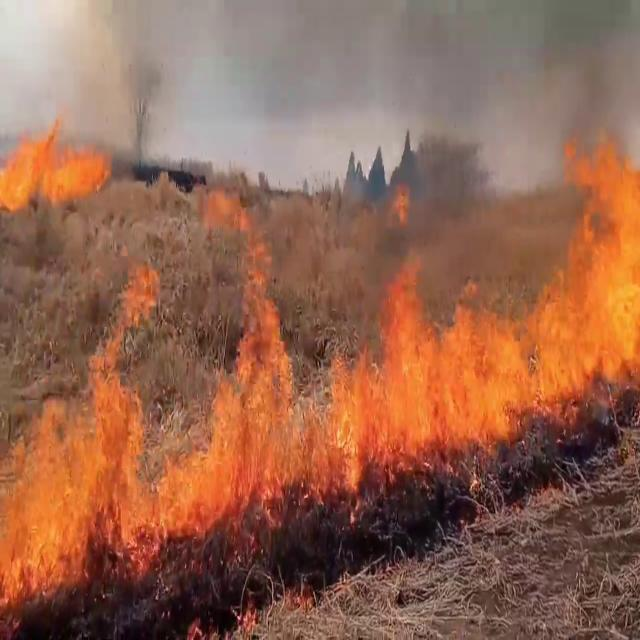Fire: (138, 192, 640, 549), (0, 315, 162, 620), (0, 110, 112, 211)
Smoke: (263, 0, 640, 272)
